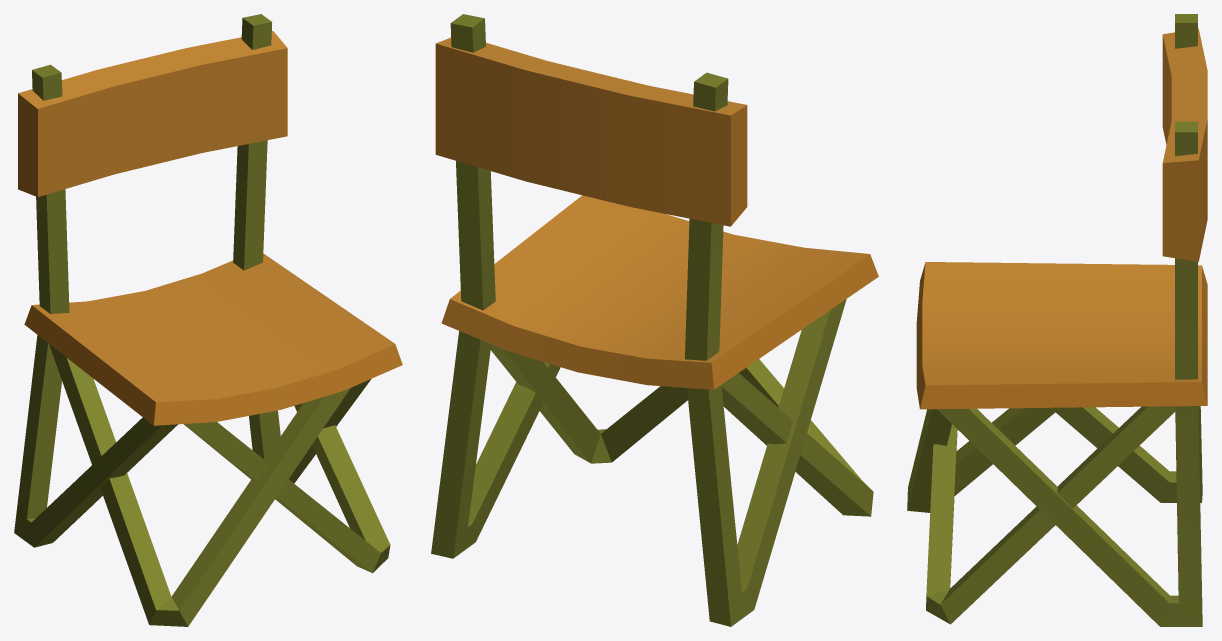
Rendered from SM_Chair_A.fbx.
The picture shows the model from 3 angles, left to right: view 1: azimuth 30°, elevation 25°; view 2: azimuth 150°, elevation 25°; view 3: azimuth 270°, elevation 25°; orthographic projection. The views are drawn at different scales.
Parts seen in each view (by area): view 1: SM_Chair_A; view 2: SM_Chair_A; view 3: SM_Chair_A.
Part boxes in pixels (bbox=[...]): SM_Chair_A: bbox=[14, 14, 402, 626]; SM_Chair_A: bbox=[431, 14, 878, 626]; SM_Chair_A: bbox=[907, 14, 1207, 626].
Size of the model in its own units: 60.92 by 104 by 57.82.
